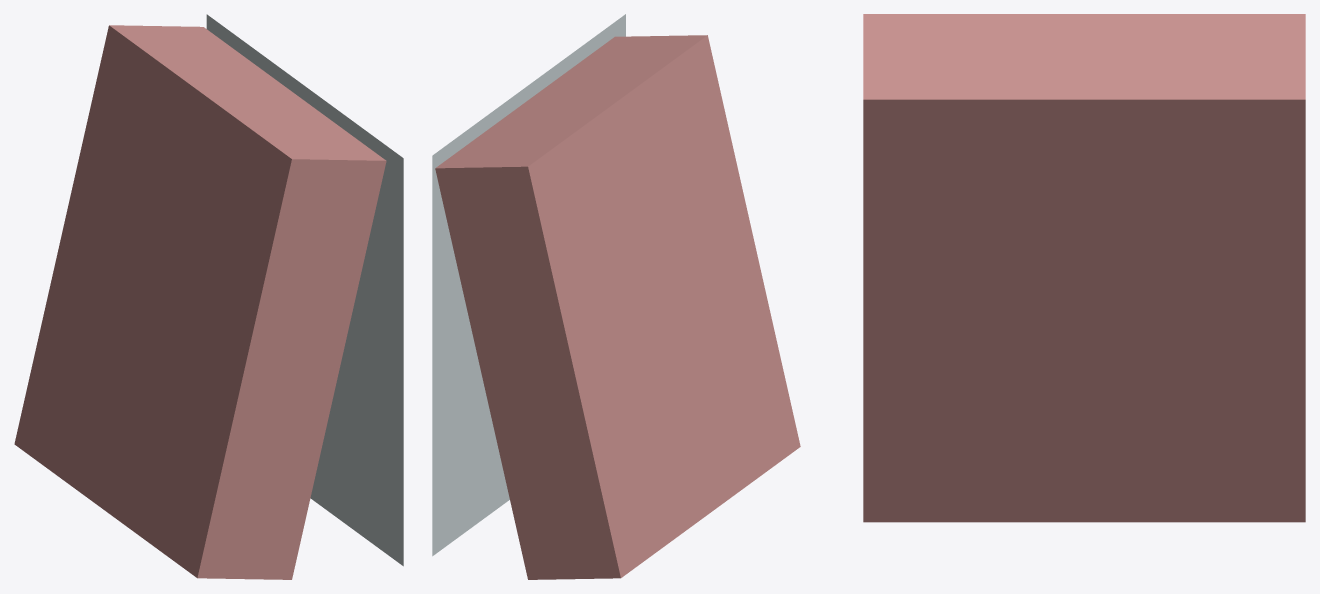
Rendered from book-single-1.glb.
3 views of the same model, side by side, from view 1: azimuth 30°, elevation 25°; view 2: azimuth 150°, elevation 25°; view 3: azimuth 270°, elevation 25° (orthographic). The views are drawn at different scales.
Parts seen in each view (by area): view 1: Kenney single book 1; view 2: Kenney single book 1; view 3: Kenney single book 1.
Part boxes in pixels (box(x1,y1,x2,y2)): Kenney single book 1: box(14, 14, 403, 579); Kenney single book 1: box(432, 14, 800, 579); Kenney single book 1: box(863, 14, 1305, 522).
Size of the model in its own units: 0.0496 by 0.1039 by 0.0882.
